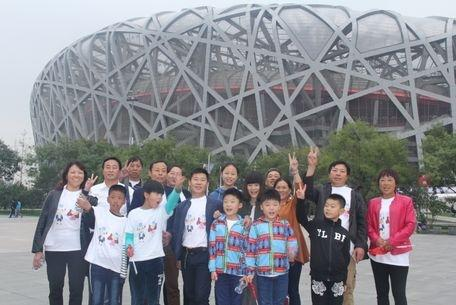NoHelmet: (64, 160, 86, 189), (376, 169, 399, 196), (328, 159, 349, 185), (101, 157, 121, 183)
